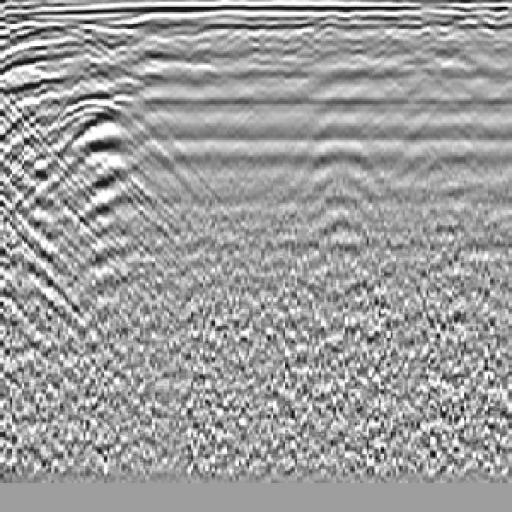metalic: (27, 50, 207, 250)
